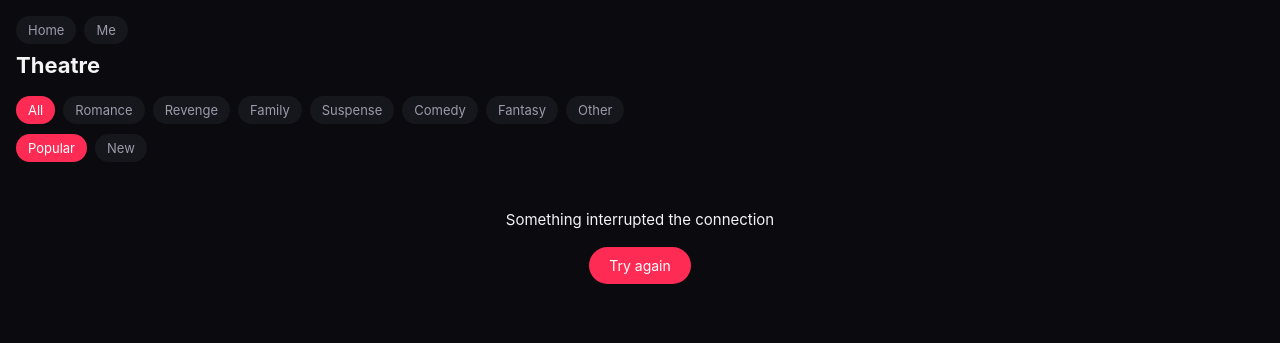
it: the browse grid › offers a retry when the network failed, and reloads on it
Step 1. Click the button "Try again" → (640, 265), box 589,246 -> 691,284
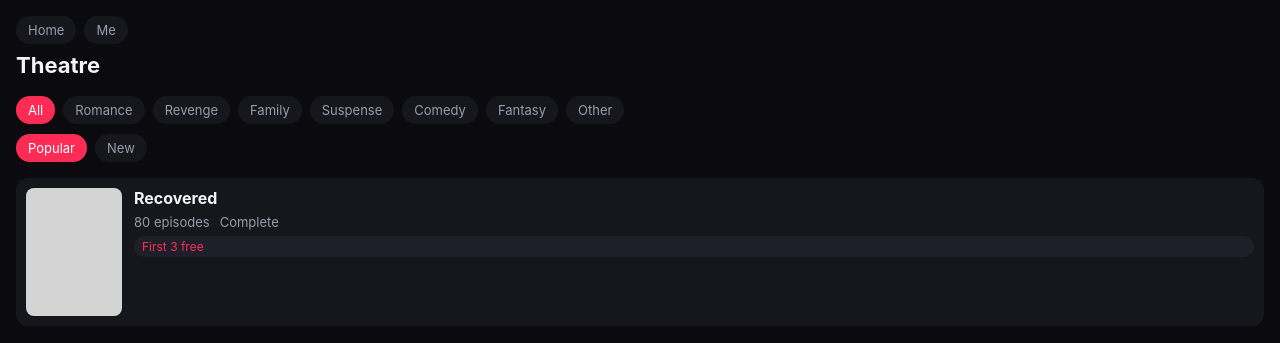
expect the heading "Recovered" is shown: met, box 134,188 -> 217,208
expect the message with test id "retryable-error" is gone: met
